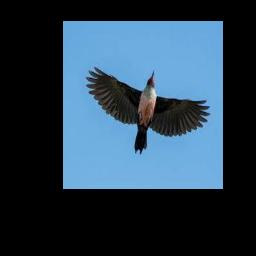Woodpecker: (86, 67, 210, 154)
